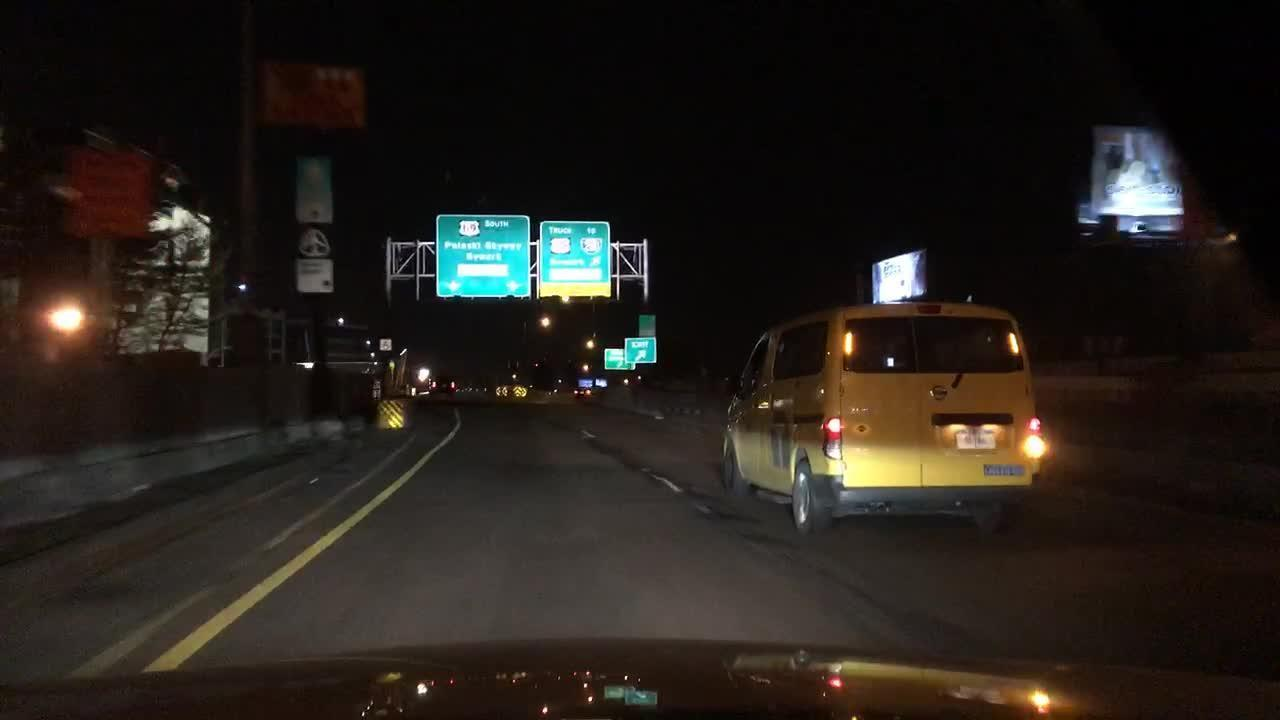Nissan: (927, 381, 953, 407)
